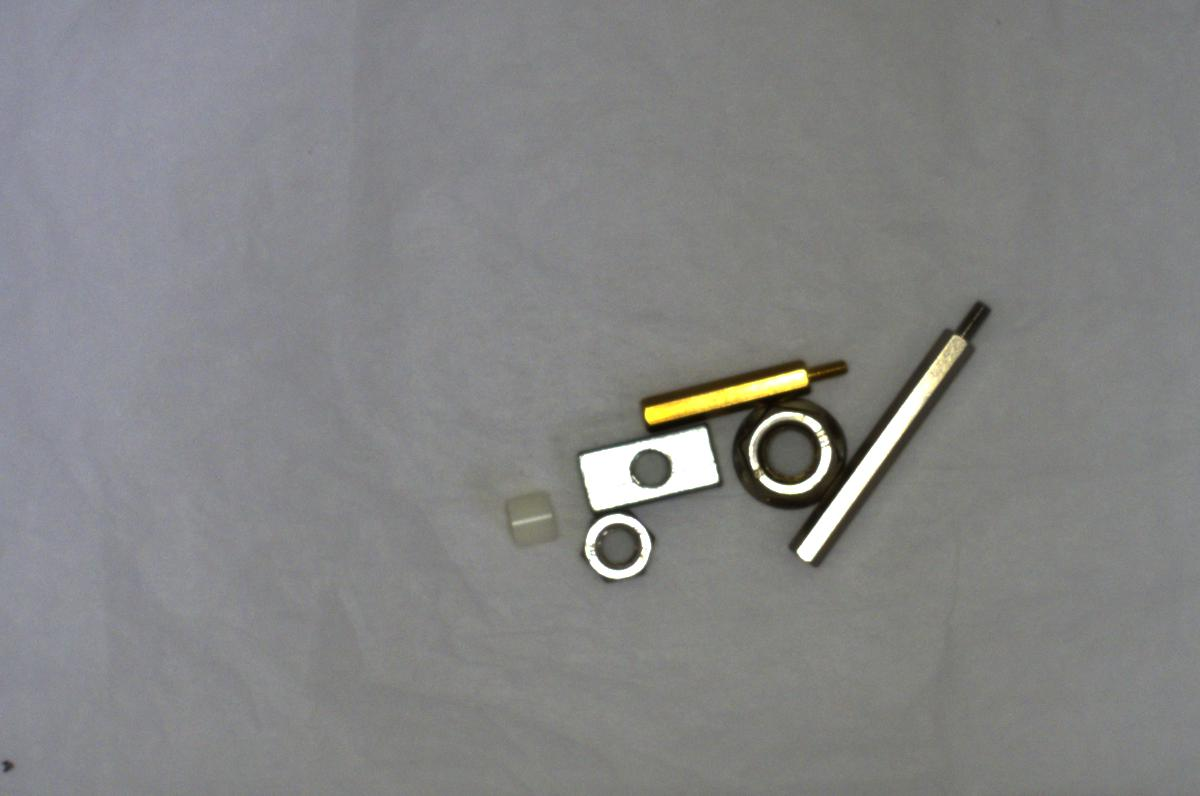Flange nut: (730, 394, 851, 516)
Hexagon nut: (575, 509, 662, 585)
Hexagon pillar: (625, 329, 853, 423)
Hexagonal steel column: (788, 292, 1001, 567)
Plastic cushion pillar: (501, 487, 562, 552)
Rectangular nut: (574, 425, 727, 512)
